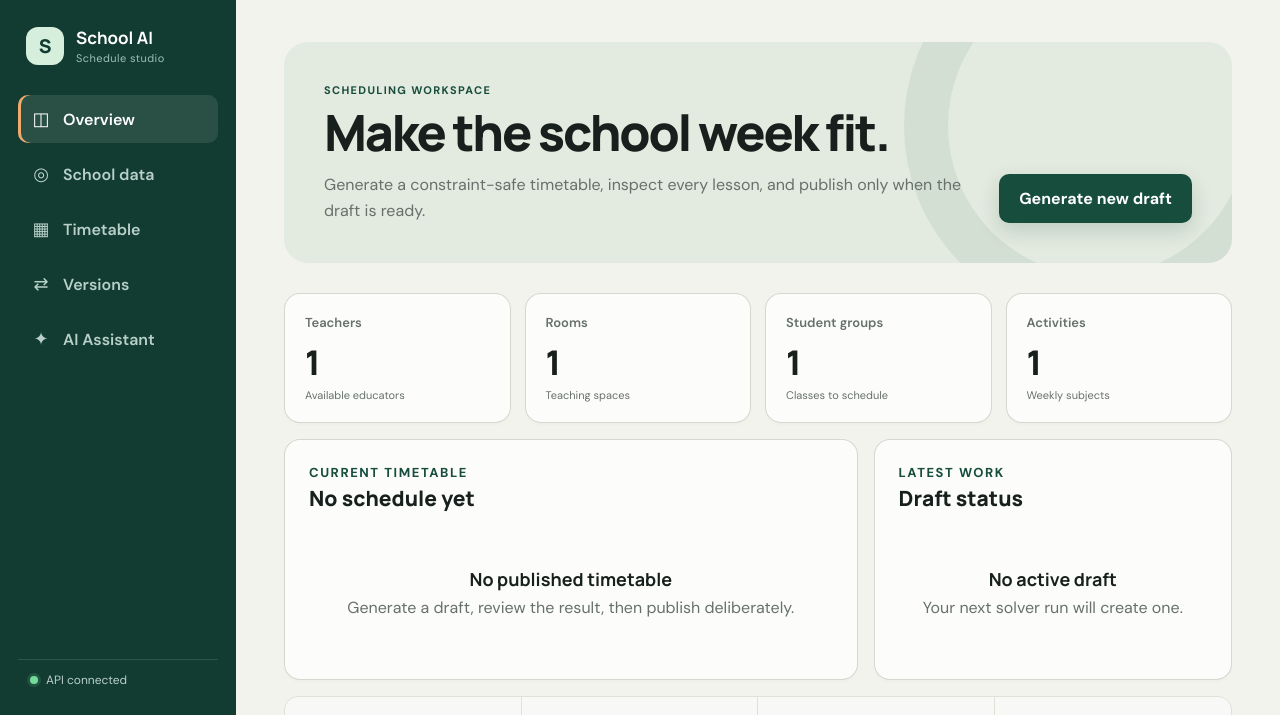
Test: generates a draft once and opens the timetable
Step 1. Click the button "Generate new draft" → (1096, 199), box [999,174,1192,223]
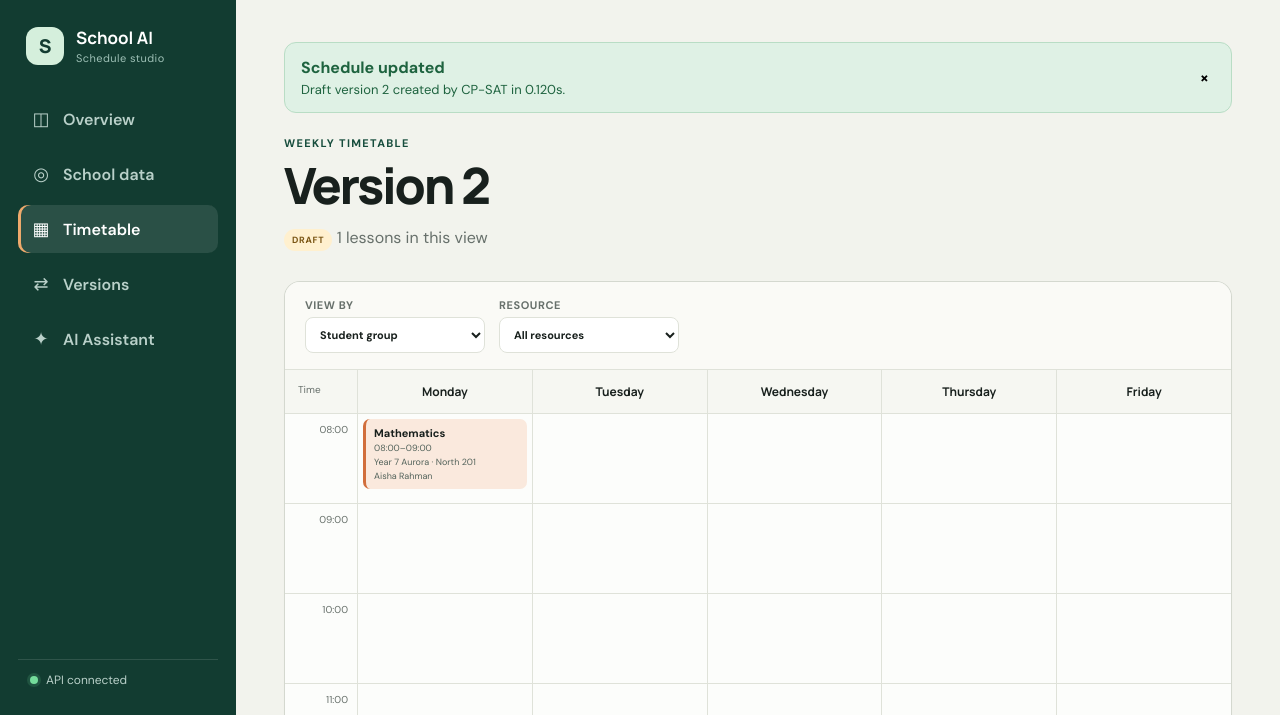
Expected: the heading "Version 2" is shown, [284,159,489,211]
Expected: the text "Mathematics" is shown, [374,426,445,440]
Expected: the text "Draft version 2 created by CP-SAT in 0.120s." is shown, [301,81,565,98]
